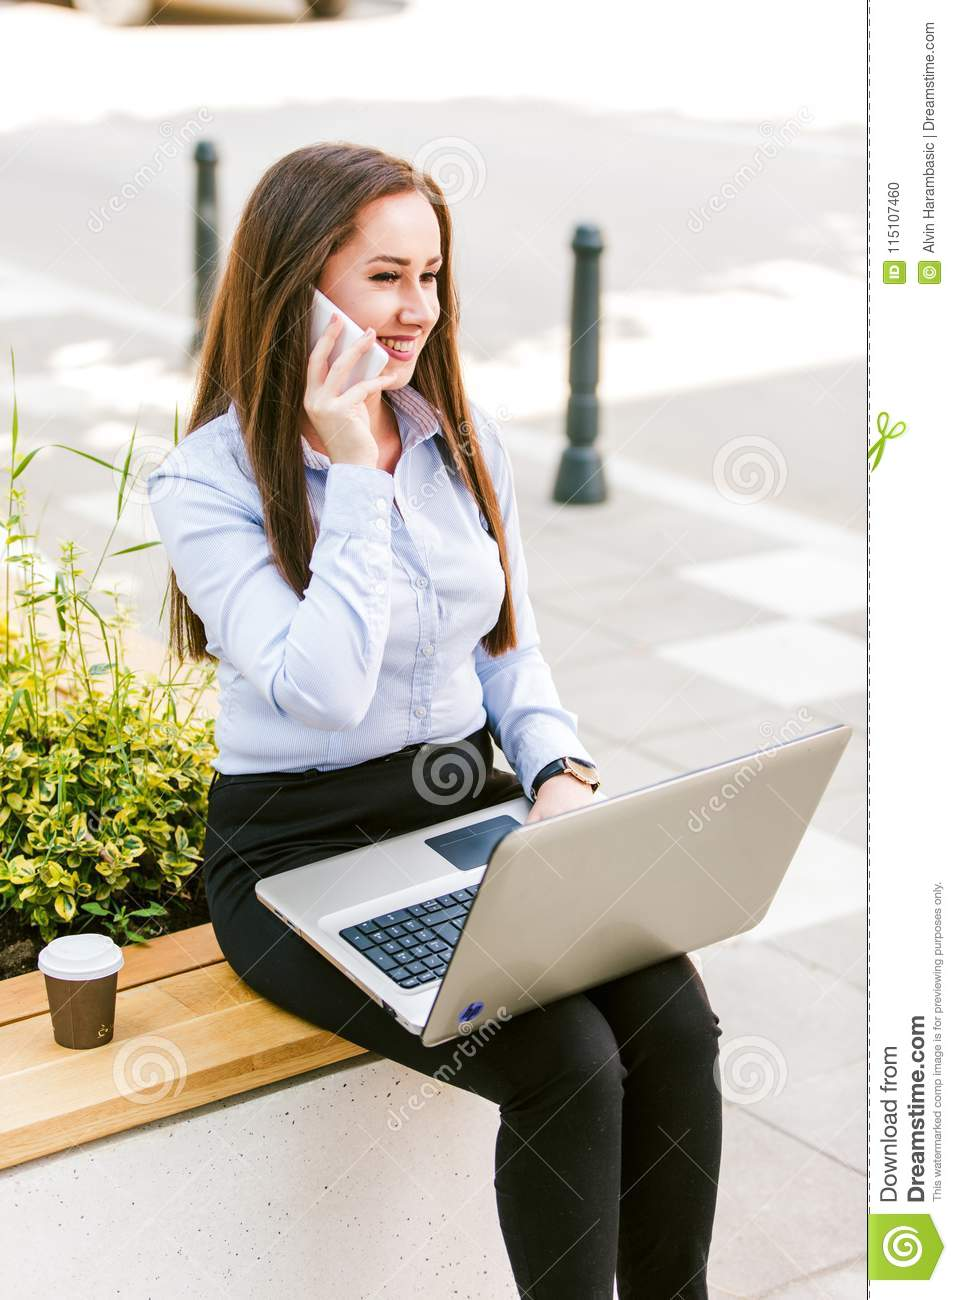phone: (296, 278, 387, 411)
talk: (288, 236, 447, 473)
